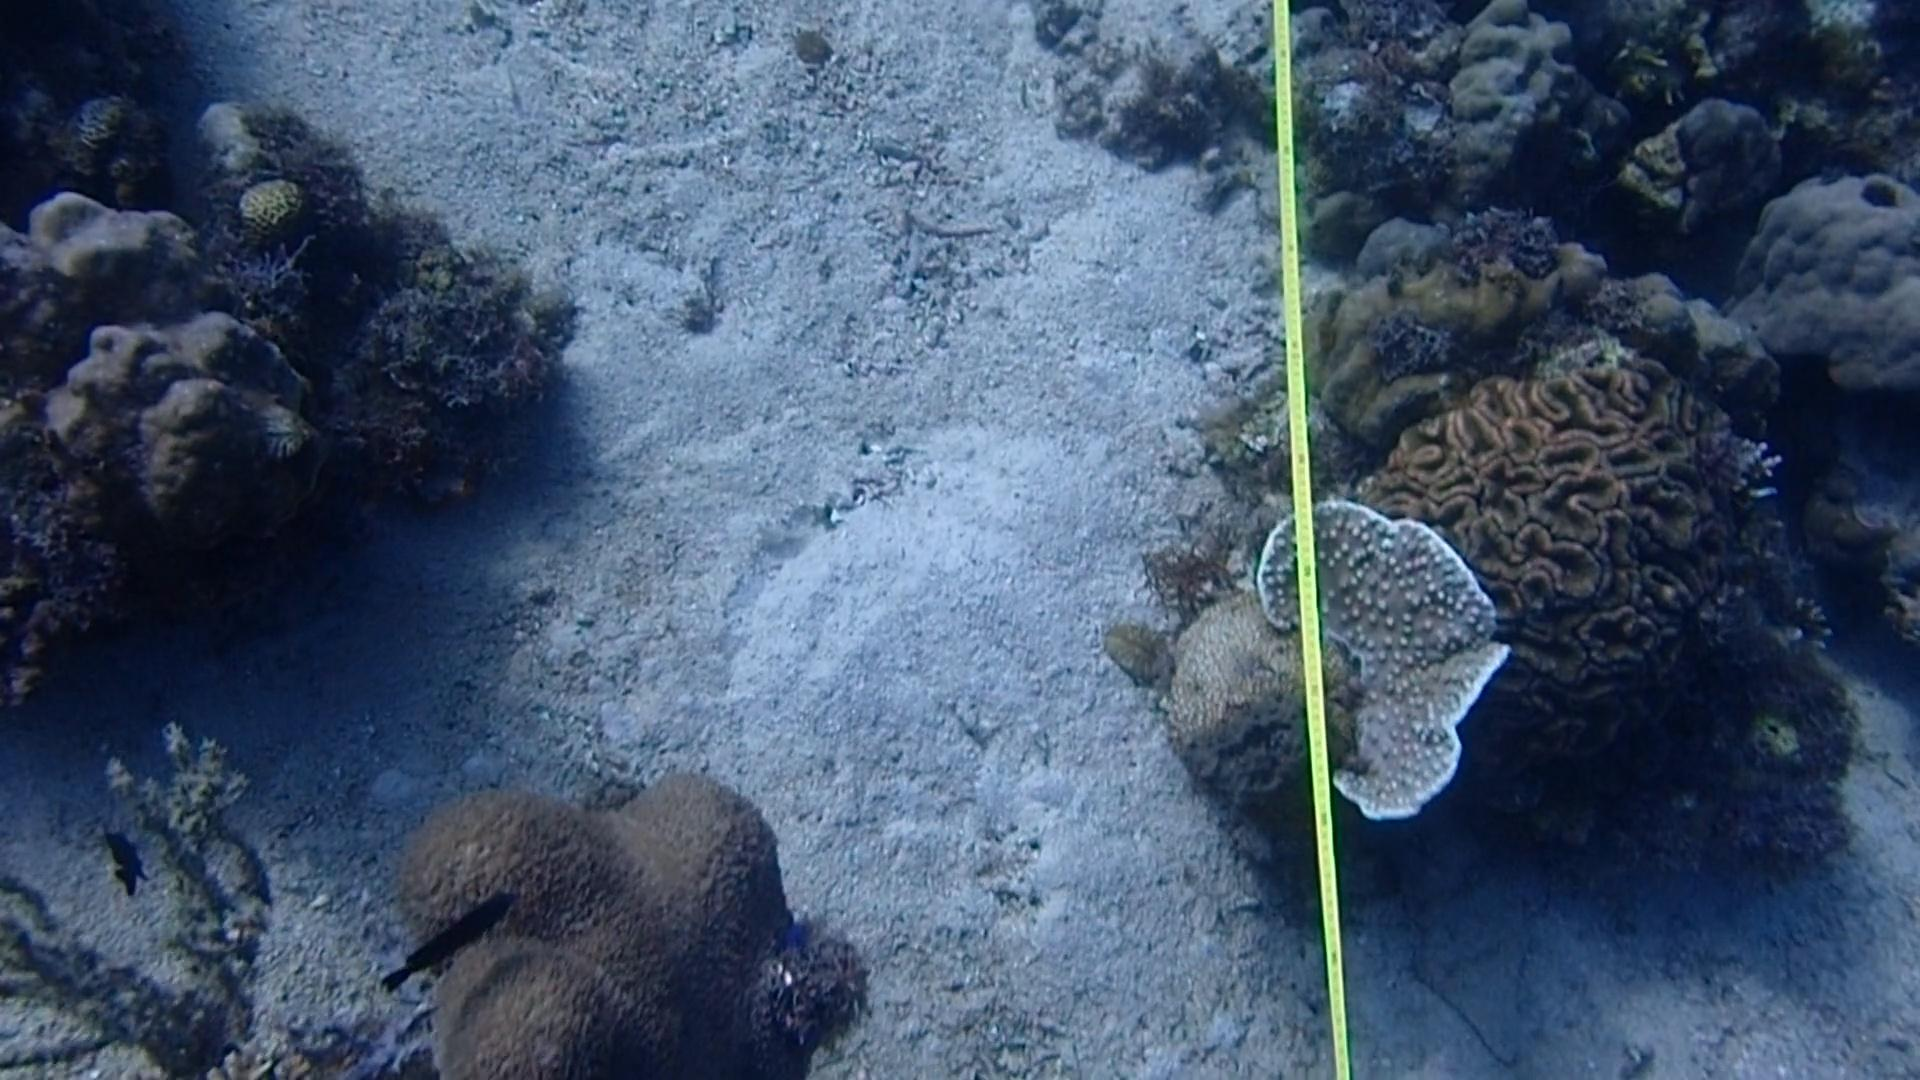Dark Fish: (357, 880, 522, 1001), (87, 816, 167, 923)
